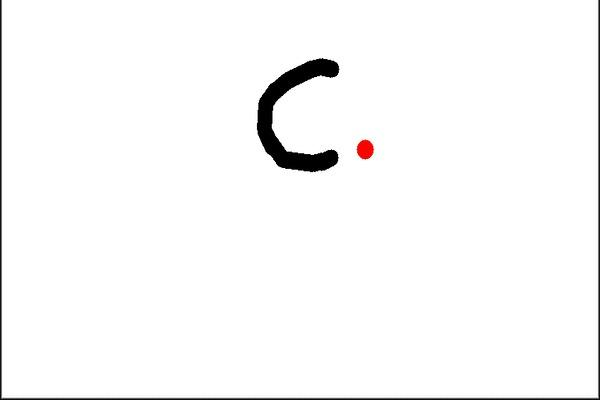C: (250, 52, 353, 177)
